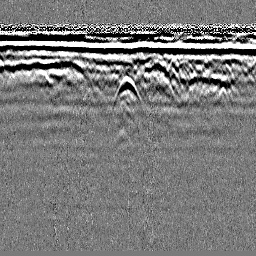cavity: (113, 72, 143, 104)
